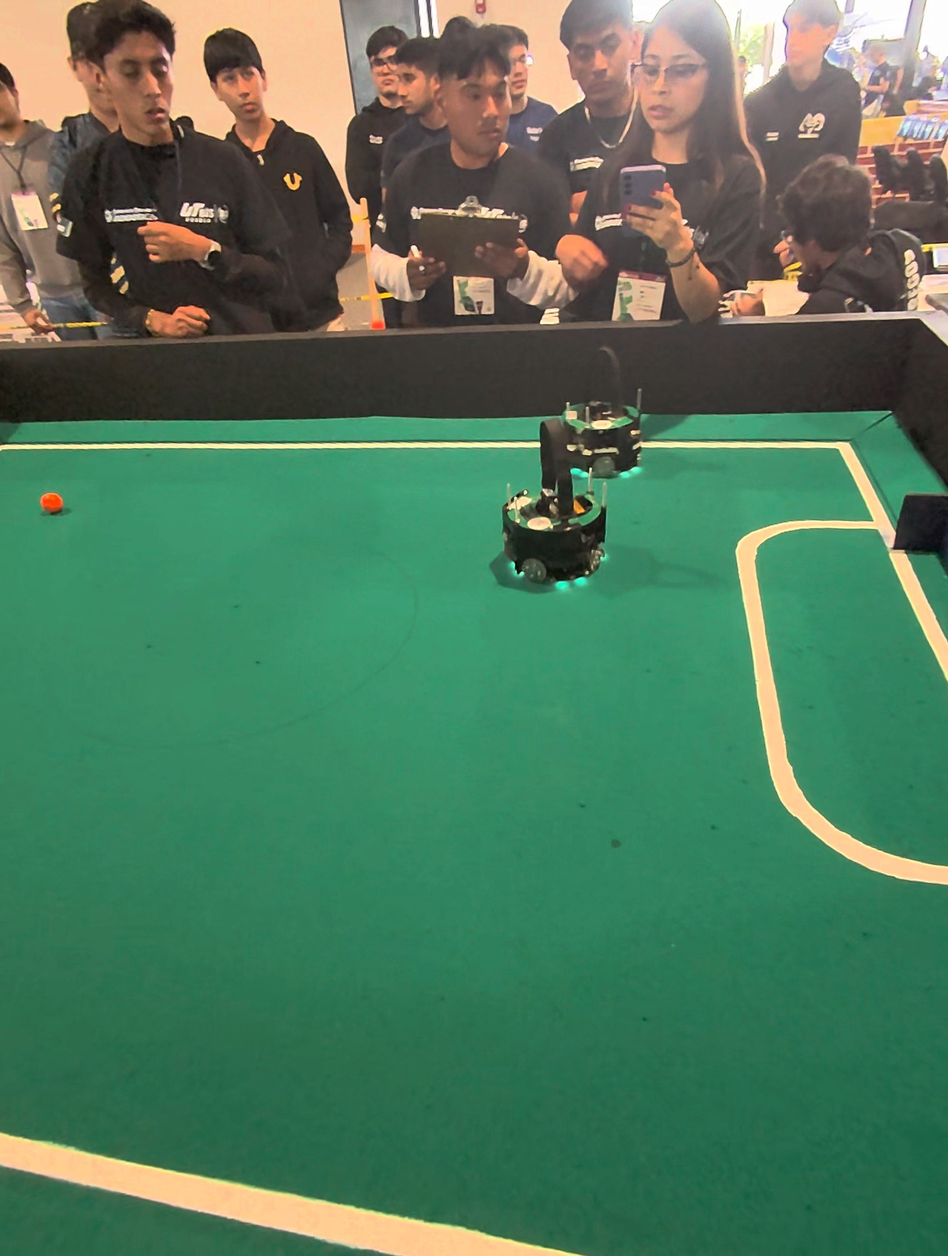Robot: (485, 472, 614, 610), (559, 341, 654, 489)
pelota: (35, 478, 71, 524)
